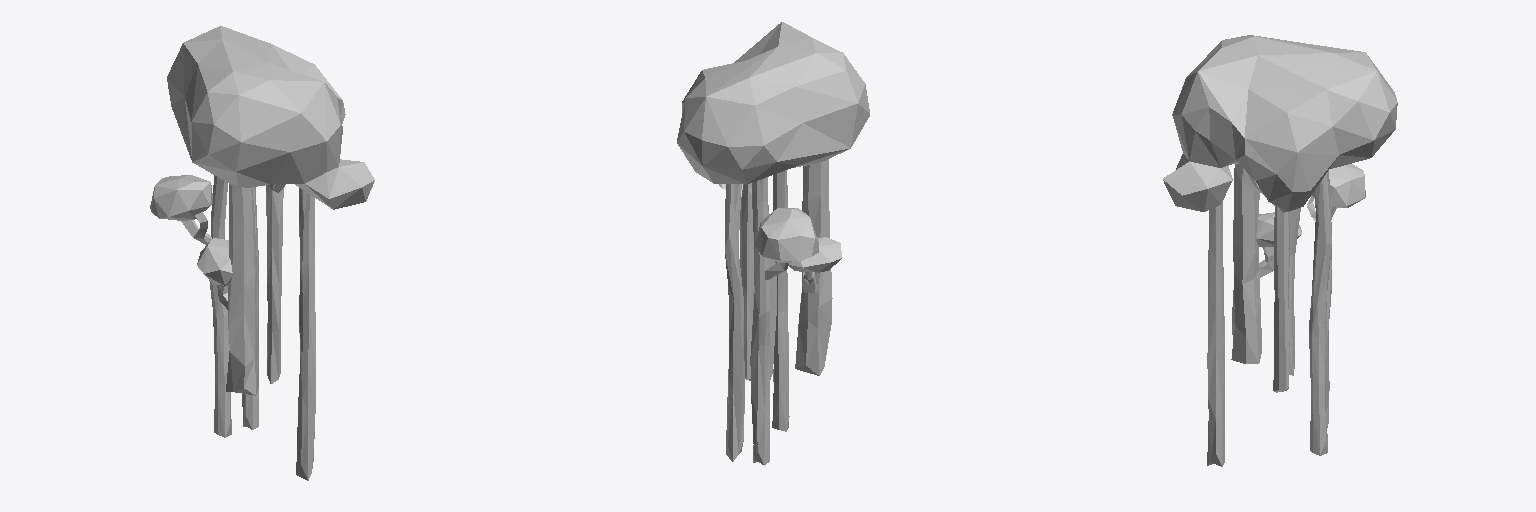
The model's file is arbol6.obj.
The picture shows the model from 3 angles: view 1: azimuth 30°, elevation 25°; view 2: azimuth 150°, elevation 25°; view 3: azimuth 270°, elevation 25°; orthographic projection.
Visible parts, largest first — view 1: Mball.000, Cylinder.001, Cylinder.004, Mball.011, Cylinder.002, Cylinder.003, Cylinder.005; view 2: Mball.000, Cylinder.001, Cylinder.002, Cylinder.005, Mball.011, Cylinder.004, Cylinder.003, Cylinder; view 3: Mball.000, Cylinder.001, Cylinder.005, Cylinder.004, Cylinder.003, Mball.011, Cylinder, Cylinder.002.
Boxes of the visible parts, x1=… form: Mball.000: x1=167, y1=26, x2=374, y2=209; Cylinder.001: x1=217, y1=184, x2=258, y2=395; Cylinder.004: x1=296, y1=188, x2=315, y2=480; Mball.011: x1=150, y1=175, x2=233, y2=285; Cylinder.002: x1=181, y1=175, x2=231, y2=437; Cylinder.003: x1=266, y1=184, x2=285, y2=383; Cylinder.005: x1=242, y1=388, x2=258, y2=429; Mball.000: x1=677, y1=22, x2=869, y2=184; Cylinder.001: x1=795, y1=159, x2=832, y2=375; Cylinder.002: x1=750, y1=178, x2=788, y2=465; Cylinder.005: x1=725, y1=184, x2=744, y2=461; Mball.011: x1=755, y1=208, x2=841, y2=272; Cylinder.004: x1=772, y1=170, x2=789, y2=431; Cylinder.003: x1=719, y1=183, x2=754, y2=380; Cylinder: x1=766, y1=177, x2=776, y2=379; Mball.000: x1=1163, y1=35, x2=1397, y2=211; Cylinder.001: x1=1231, y1=164, x2=1273, y2=363; Cylinder.005: x1=1309, y1=173, x2=1331, y2=455; Cylinder.004: x1=1207, y1=202, x2=1224, y2=466; Cylinder.003: x1=1248, y1=174, x2=1295, y2=392; Mball.011: x1=1256, y1=164, x2=1365, y2=246; Cylinder: x1=1289, y1=208, x2=1300, y2=375; Cylinder.002: x1=1307, y1=170, x2=1336, y2=427.
Size of the model in its own units: 8.62 by 21.54 by 11.37.